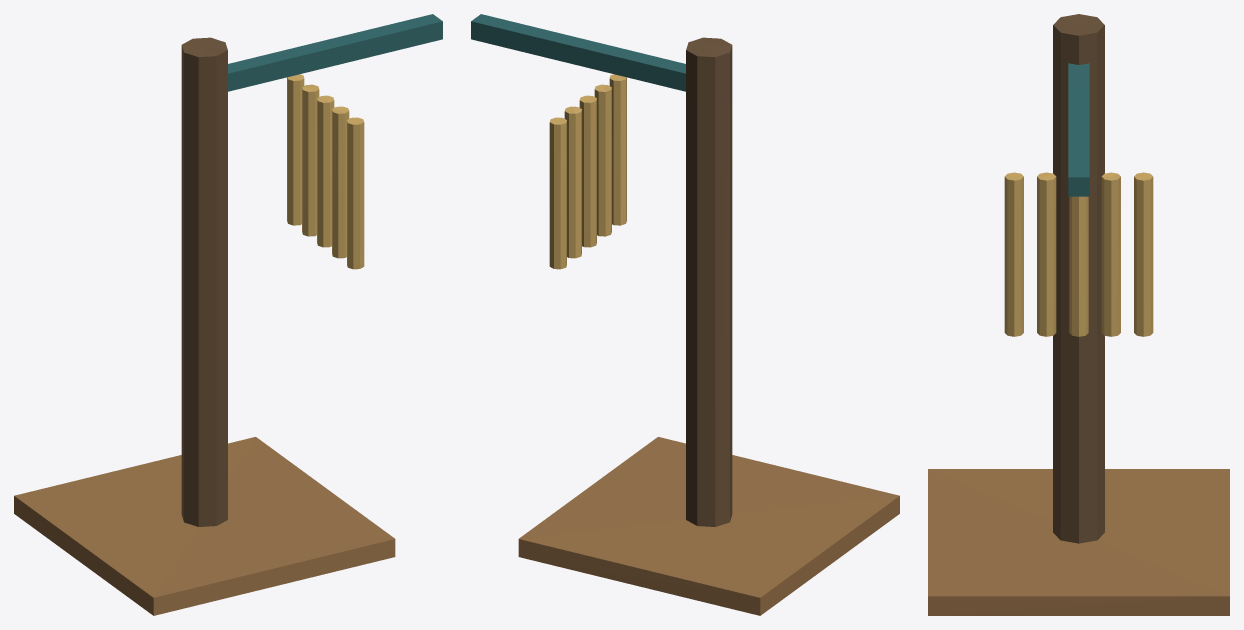
The model's file is wind-chimes.source.glb.
3 renders of one model, left to right at view 1: azimuth 30°, elevation 25°; view 2: azimuth 150°, elevation 25°; view 3: azimuth 270°, elevation 25°, orthographic. The views are drawn at different scales.
Parts seen in each view (by area): view 1: wind-chimes-base-mesh, wind-chimes-post-mesh, wind-chimes-arm-mesh, wind-chimes-chime-4-mesh, wind-chimes-chime-3-mesh, wind-chimes-chime-2-mesh, wind-chimes-chime-1-mesh, wind-chimes-chime-0-mesh; view 2: wind-chimes-base-mesh, wind-chimes-post-mesh, wind-chimes-arm-mesh, wind-chimes-chime-0-mesh, wind-chimes-chime-1-mesh, wind-chimes-chime-2-mesh, wind-chimes-chime-3-mesh, wind-chimes-chime-4-mesh; view 3: wind-chimes-base-mesh, wind-chimes-post-mesh, wind-chimes-chime-0-mesh, wind-chimes-chime-1-mesh, wind-chimes-chime-3-mesh, wind-chimes-chime-4-mesh, wind-chimes-arm-mesh, wind-chimes-chime-2-mesh.
Boxes of the visible parts, left/top/right/bottom form: wind-chimes-base-mesh: left=14, top=437, right=395, bottom=615; wind-chimes-post-mesh: left=181, top=37, right=227, bottom=526; wind-chimes-arm-mesh: left=228, top=14, right=442, bottom=91; wind-chimes-chime-4-mesh: left=347, top=117, right=364, bottom=269; wind-chimes-chime-3-mesh: left=332, top=106, right=349, bottom=258; wind-chimes-chime-2-mesh: left=317, top=95, right=334, bottom=247; wind-chimes-chime-1-mesh: left=302, top=84, right=319, bottom=236; wind-chimes-chime-0-mesh: left=287, top=74, right=304, bottom=225; wind-chimes-base-mesh: left=518, top=437, right=899, bottom=615; wind-chimes-post-mesh: left=686, top=37, right=732, bottom=526; wind-chimes-arm-mesh: left=471, top=14, right=685, bottom=91; wind-chimes-chime-0-mesh: left=549, top=117, right=566, bottom=269; wind-chimes-chime-1-mesh: left=564, top=106, right=581, bottom=258; wind-chimes-chime-2-mesh: left=579, top=95, right=596, bottom=247; wind-chimes-chime-3-mesh: left=594, top=84, right=611, bottom=236; wind-chimes-chime-4-mesh: left=609, top=74, right=626, bottom=225; wind-chimes-base-mesh: left=928, top=469, right=1229, bottom=615; wind-chimes-post-mesh: left=1053, top=14, right=1104, bottom=543; wind-chimes-chime-0-mesh: left=1134, top=172, right=1153, bottom=336; wind-chimes-chime-1-mesh: left=1101, top=172, right=1120, bottom=336; wind-chimes-chime-3-mesh: left=1037, top=172, right=1056, bottom=336; wind-chimes-chime-4-mesh: left=1004, top=172, right=1023, bottom=336; wind-chimes-arm-mesh: left=1068, top=63, right=1089, bottom=196; wind-chimes-chime-2-mesh: left=1069, top=196, right=1088, bottom=336.
Bounding box in the file's own units: 2.05 × 2.7 × 1.4.
